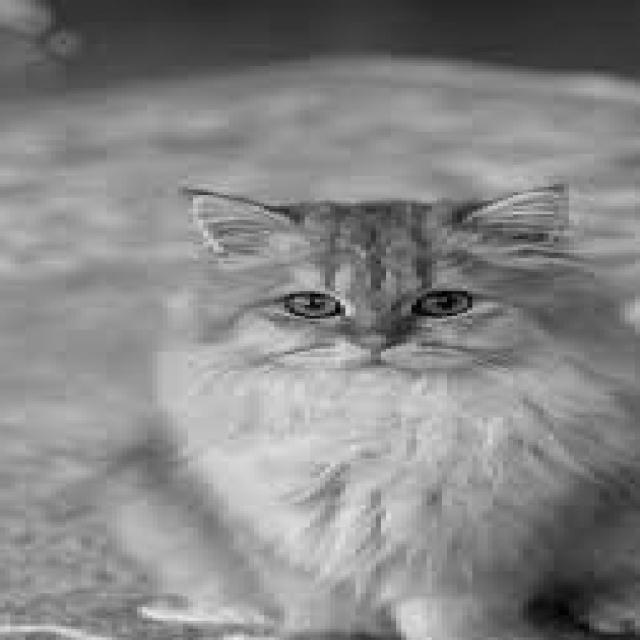british: (158, 176, 611, 387)
